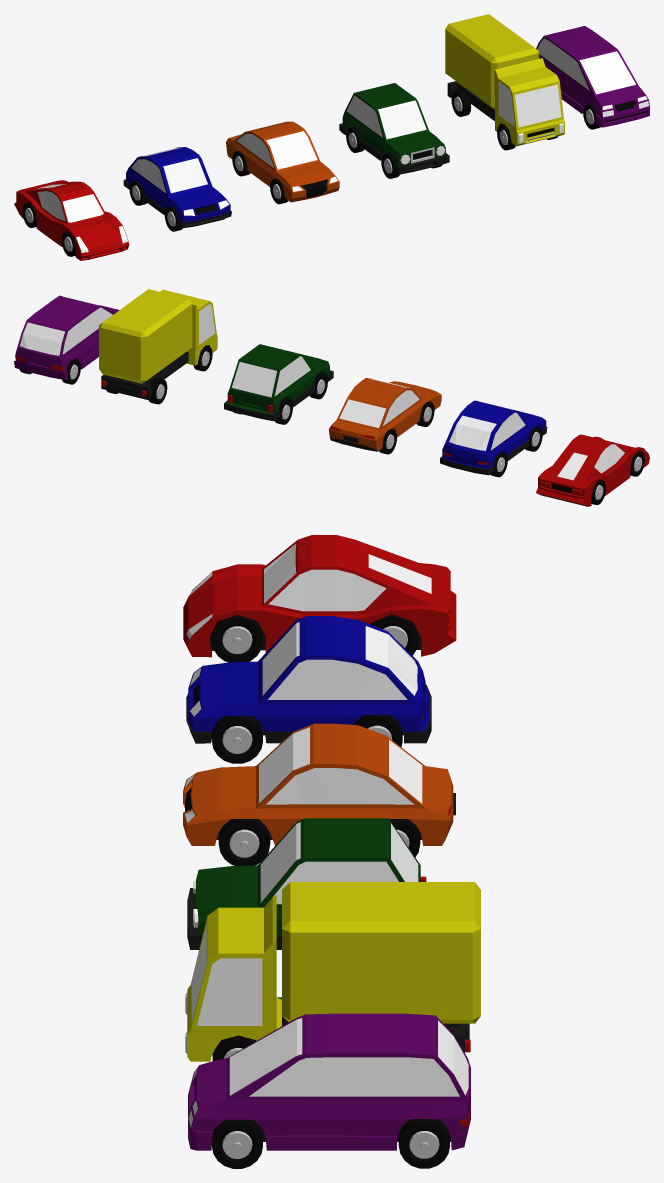
The model's file is Cars.FBX.
3 renders of one model, top to bottom at view 1: azimuth 30°, elevation 25°; view 2: azimuth 150°, elevation 25°; view 3: azimuth 270°, elevation 25°, orthographic. The views are drawn at different scales.
Visible parts, largest first — view 1: yellow, green001, red (×2), green, orange, blue, red004, red003, red002, red001; view 2: yellow, green001, green, red (×2), orange, blue, red004, red003, red002, red001, red005; view 3: yellow, green001, red (×2), orange, blue, green, red005, red001, red002.
Boxes of the visible parts, box(x1,y1,x2,y2) form: yellow: box(445, 14, 564, 146); green001: box(536, 26, 649, 127); red (×2): box(14, 180, 129, 260); green: box(339, 83, 449, 174); orange: box(226, 121, 339, 202); blue: box(123, 147, 231, 228); red004: box(451, 90, 558, 150); red003: box(346, 126, 442, 178); red002: box(232, 150, 288, 204); red001: box(129, 180, 224, 231); yellow: box(99, 289, 217, 400); green001: box(14, 295, 119, 379); green: box(224, 344, 333, 421); red (×2): box(536, 434, 649, 506); orange: box(328, 378, 441, 451); blue: box(440, 400, 547, 475); red004: box(106, 345, 212, 404); red003: box(233, 373, 327, 424); red002: box(379, 401, 434, 454); red001: box(490, 426, 542, 477); red005: box(19, 359, 80, 384); yellow: box(185, 882, 480, 1061); green001: box(188, 1013, 470, 1150); red (×2): box(183, 535, 456, 662); orange: box(183, 723, 455, 845); blue: box(186, 616, 431, 743); green: box(187, 818, 426, 949); red005: box(212, 1119, 449, 1168); red001: box(211, 715, 402, 763); red002: box(218, 819, 420, 865).
Bounding box in the file's own units: 713 × 96.1 × 162.
